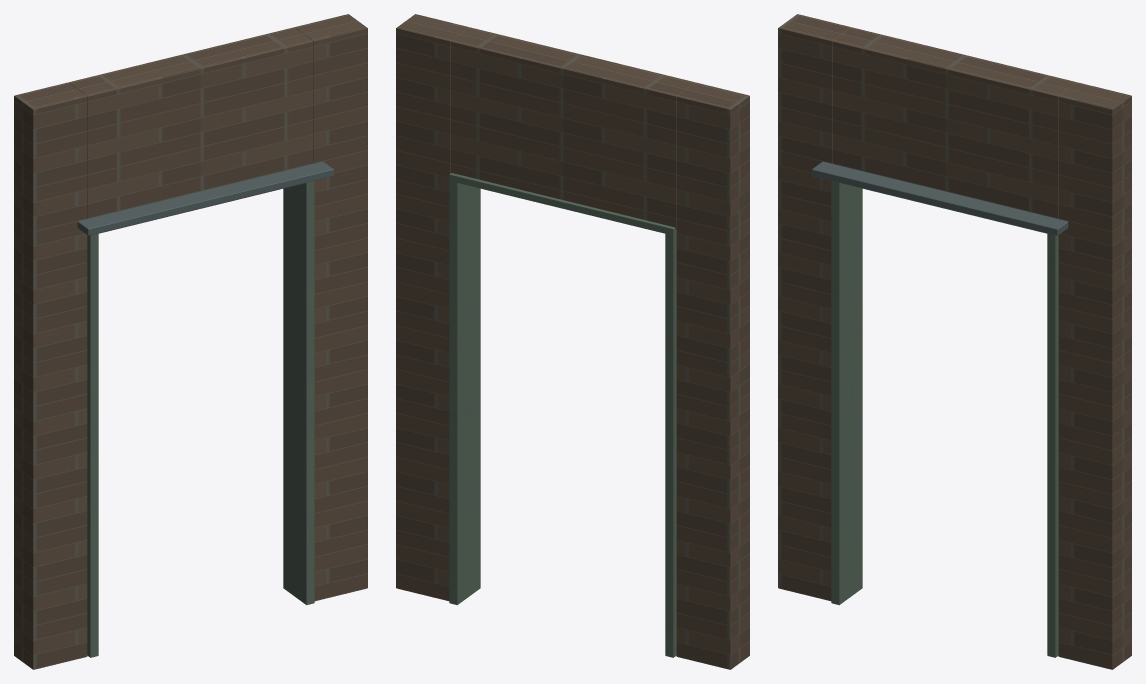
File: rear_service_frame_2m.glb
3 views of the same model, side by side, from view 1: azimuth 30°, elevation 25°; view 2: azimuth 150°, elevation 25°; view 3: azimuth 330°, elevation 25° (orthographic).
Parts seen in each view (by area): view 1: rear_service_frame_2m; view 2: rear_service_frame_2m; view 3: rear_service_frame_2m.
Boxes of the visible parts, left/top/right/bottom form: rear_service_frame_2m: left=14, top=14, right=367, bottom=669; rear_service_frame_2m: left=396, top=14, right=749, bottom=669; rear_service_frame_2m: left=778, top=14, right=1131, bottom=669.
Bounding box in the file's own units: 2 × 3.2 × 0.33.
3 materials, 3 textured.
